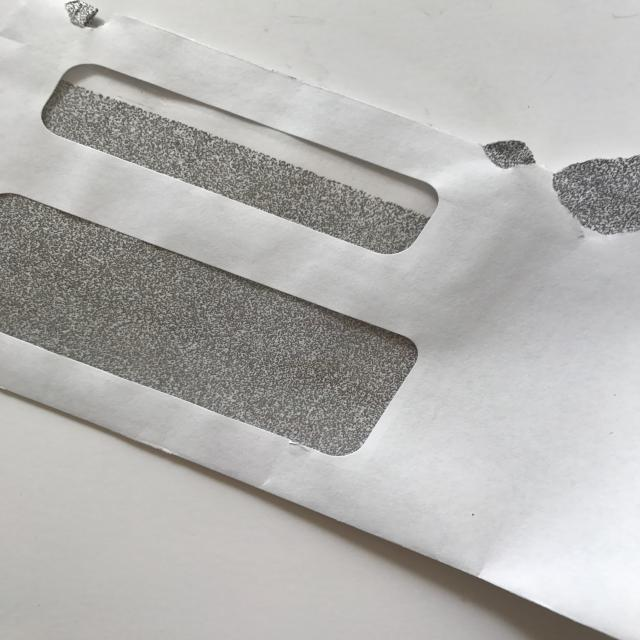paper: (1, 1, 638, 638)
